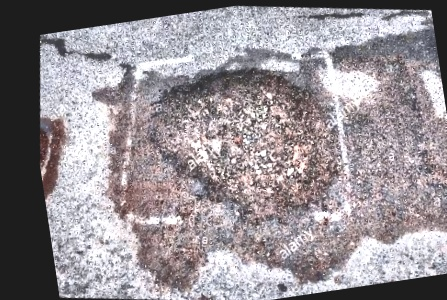pothole: (121, 32, 365, 253)
